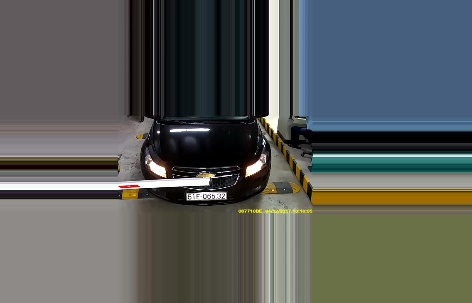plate: (185, 188, 230, 204)
